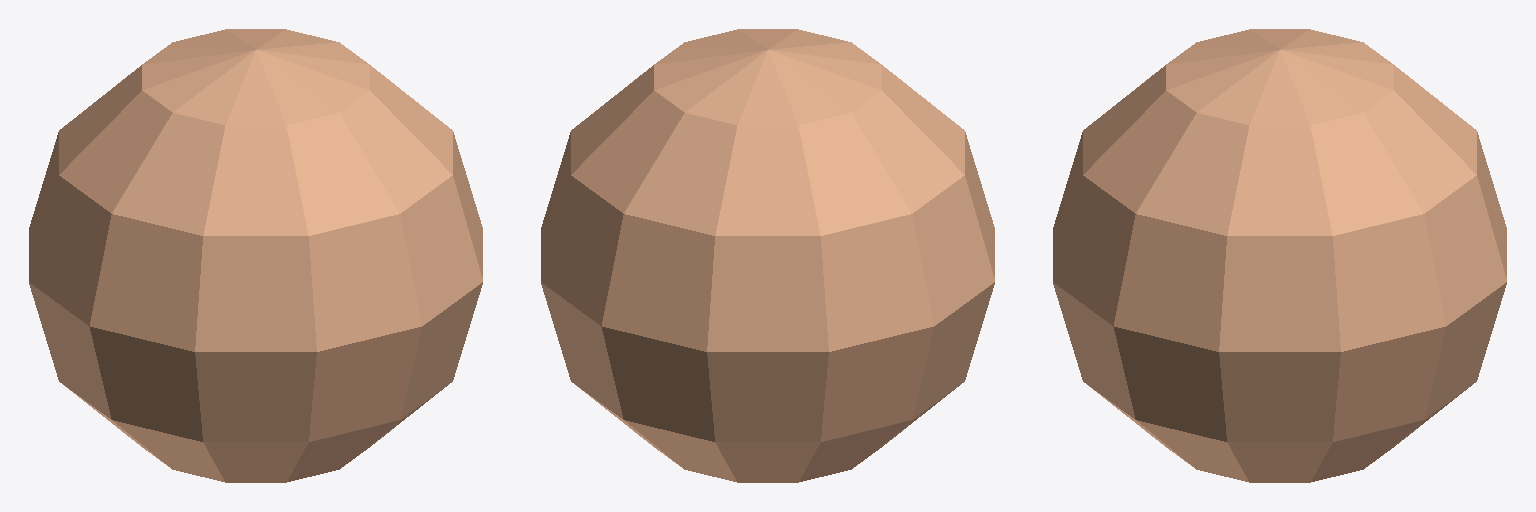
3 renders of one model, left to right at view 1: azimuth 30°, elevation 25°; view 2: azimuth 150°, elevation 25°; view 3: azimuth 270°, elevation 25°, orthographic.
Visible parts, largest first — view 1: sphere; view 2: sphere; view 3: sphere.
Boxes of the visible parts, x1=… form: sphere: x1=29, y1=29, x2=482, y2=482; sphere: x1=541, y1=29, x2=994, y2=482; sphere: x1=1053, y1=29, x2=1506, y2=482.
Bounding box in the file's own units: 1 × 1 × 1.
Materials: 1 (1 with a texture image).